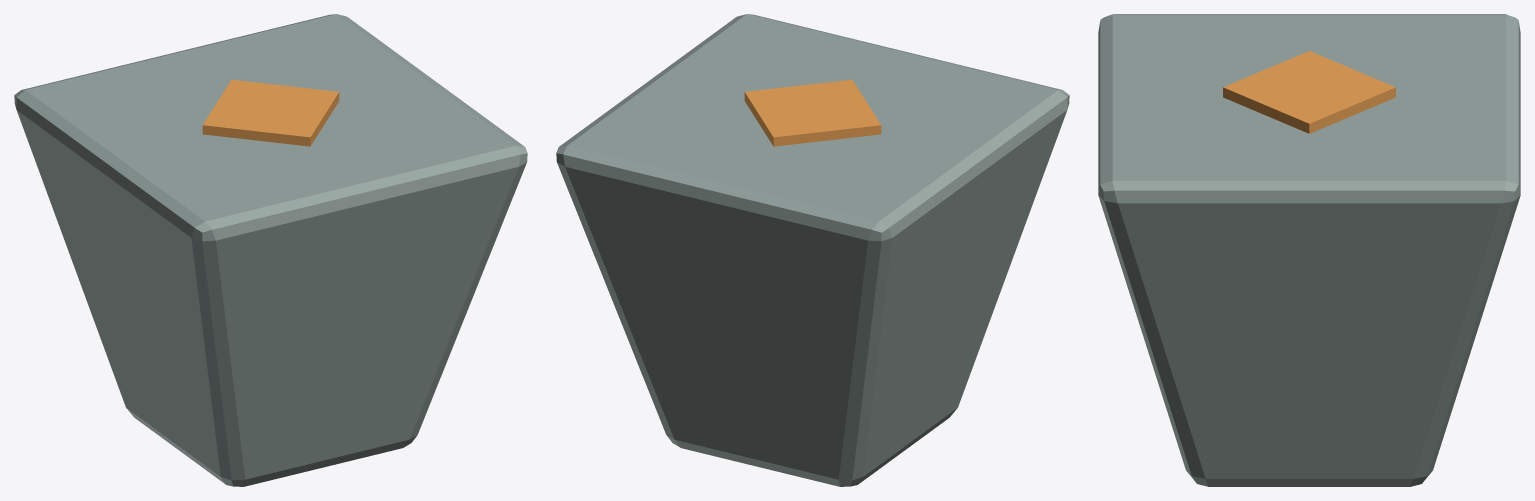
The model's file is kmp-foundation-keystone.glb.
3 views of the same model, side by side, from view 1: azimuth 30°, elevation 25°; view 2: azimuth 150°, elevation 25°; view 3: azimuth 270°, elevation 25° (orthographic). The views are drawn at different scales.
Visible parts, largest first — view 1: KeystoneBody, KeystoneInlay; view 2: KeystoneBody, KeystoneInlay; view 3: KeystoneBody, KeystoneInlay.
Boxes of the visible parts, bbox=[...] form: KeystoneBody: bbox=[14, 14, 527, 486]; KeystoneInlay: bbox=[202, 79, 339, 146]; KeystoneBody: bbox=[556, 14, 1069, 486]; KeystoneInlay: bbox=[744, 79, 881, 146]; KeystoneBody: bbox=[1098, 14, 1520, 486]; KeystoneInlay: bbox=[1223, 51, 1395, 133].
Bounding box in the file's own units: 0.5534 × 0.5146 × 0.5534.
